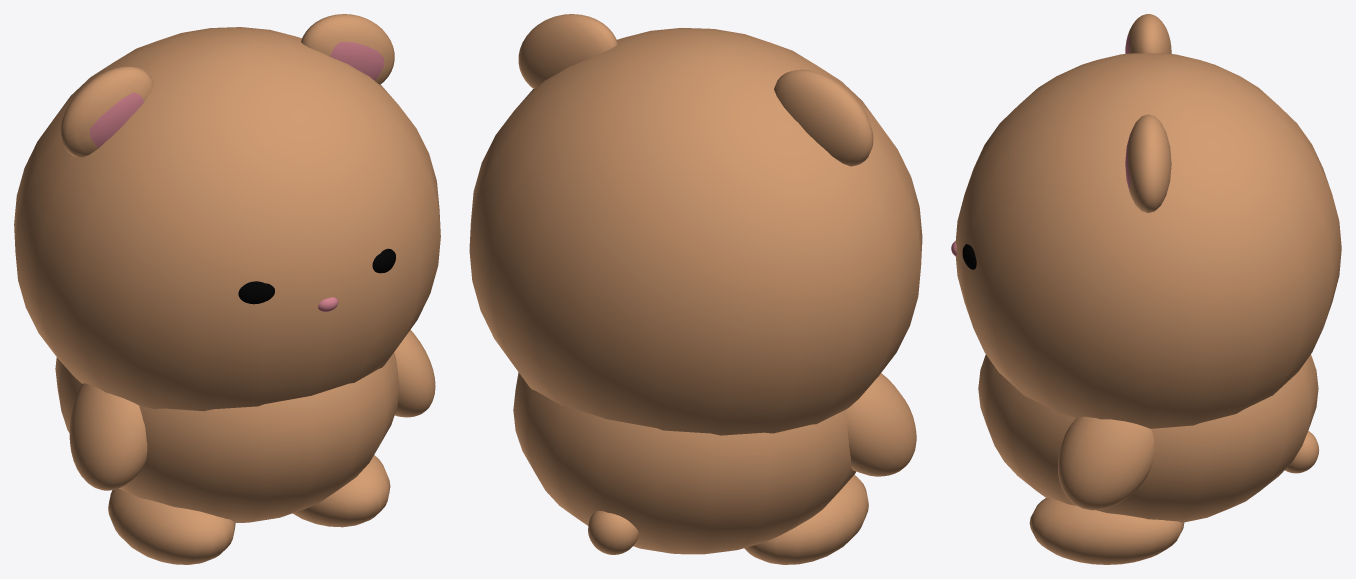
The model's file is bear.glb.
3 views of the same model, side by side, from view 1: azimuth 30°, elevation 25°; view 2: azimuth 150°, elevation 25°; view 3: azimuth 270°, elevation 25° (orthographic). The views are drawn at different scales.
Parts seen in each view (by area): view 1: head.2, body.3, right_ear.4, left_hand.9, left_foot.6, right_foot.5, right_hand.8, right_eye1.10; view 2: head.2, body.3, right_ear.4, left_hand.9, left_foot.6, tail.7; view 3: head.2, body.3, right_hand.8, right_foot.5, right_ear.4, tail.7.
Boxes of the visible parts, x1,y1,x2,y2 form: head.2: (14,27,440,411); body.3: (55,352,399,522); right_ear.4: (60,14,394,157); left_hand.9: (69,383,147,490); left_foot.6: (108,488,235,564); right_foot.5: (293,455,390,527); right_hand.8: (394,330,435,417); right_eye1.10: (238,281,274,304); head.2: (469,28,922,435); body.3: (513,372,855,554); right_ear.4: (518,14,873,166); left_hand.9: (846,373,916,476); left_foot.6: (744,475,868,564); tail.7: (588,510,638,554); head.2: (955,53,1341,428); body.3: (978,354,1318,522); right_hand.8: (1058,416,1154,510); right_foot.5: (1029,498,1184,564); right_ear.4: (1125,14,1171,213); tail.7: (1284,431,1319,473).
Bounding box in the file's own units: 5.4 × 6.46 × 5.05.
